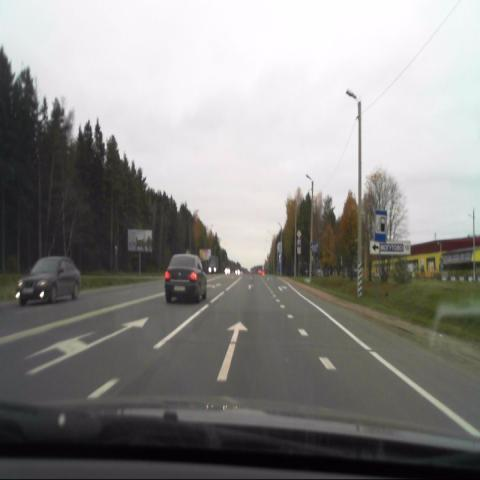7_3: (374, 210, 386, 241)
